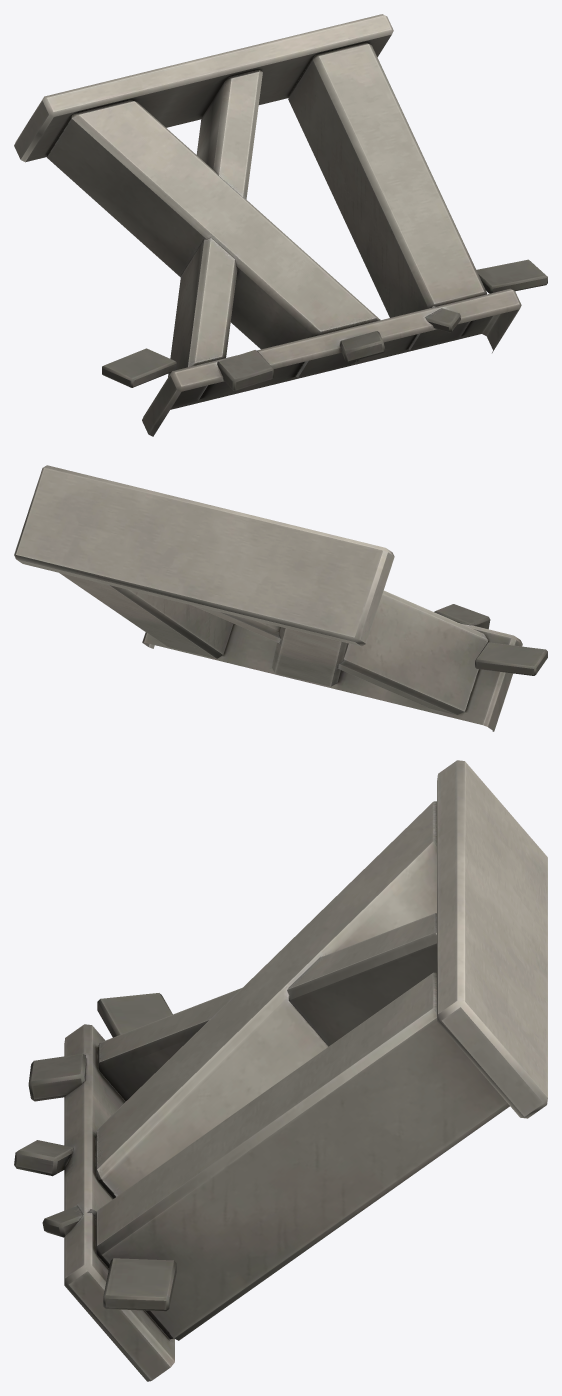
Rendered from numeral_xi.glb.
3 views of the same model, one above another, from view 1: azimuth 30°, elevation 25°; view 2: azimuth 150°, elevation 25°; view 3: azimuth 270°, elevation 25° (orthographic). The views are drawn at different scales.
Visible parts, largest first — view 1: numeral_xi_body; view 2: numeral_xi_body; view 3: numeral_xi_body.
Part boxes in pixels (left/top/right/bottom): numeral_xi_body: left=14, top=14, right=547, bottom=436; numeral_xi_body: left=14, top=465, right=547, bottom=731; numeral_xi_body: left=14, top=760, right=547, bottom=1381.
Bounding box in the file's own units: 6.56 × 3.8 × 4.83.
Materials: 1 (1 with a texture image).
